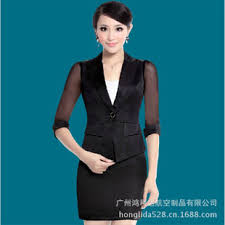F_tailored skirt: (74, 126, 154, 223)
